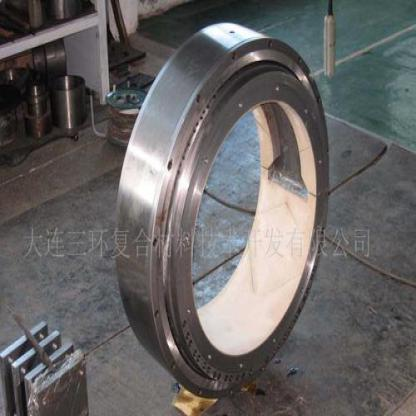FOD: (112, 21, 328, 398)
